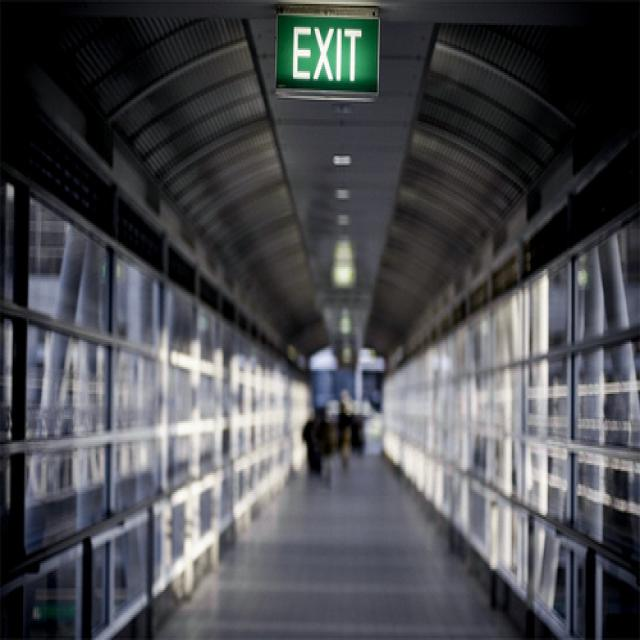floor -X: (151, 446, 521, 638)
gate number: (311, 338, 383, 450)
lamp crop: (333, 154, 349, 165), (335, 186, 346, 200), (335, 211, 347, 223)
sign: (274, 12, 379, 94)
wall clock: (0, 17, 315, 636), (383, 92, 639, 636)
